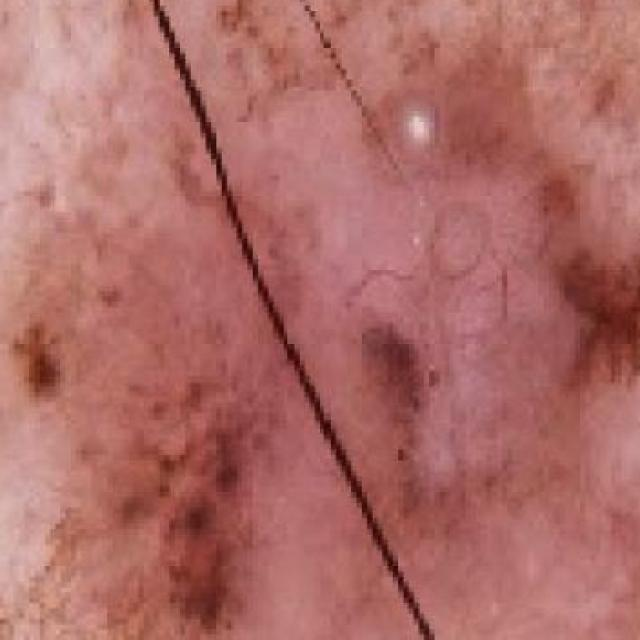BCC: (98, 98, 640, 640)
